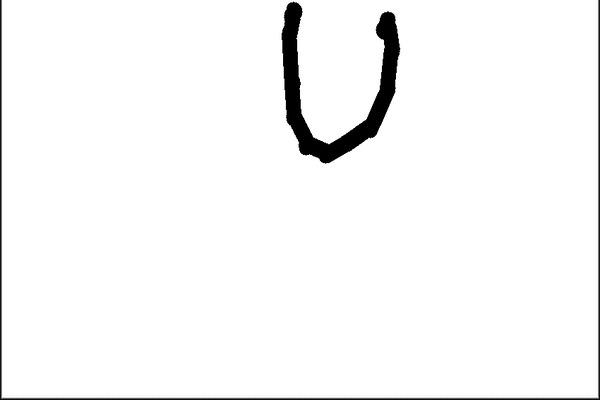U: (275, 0, 405, 166)
